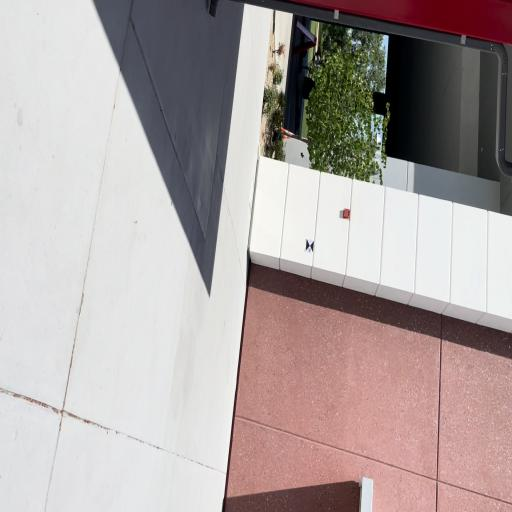target9: (305, 239, 314, 254)
